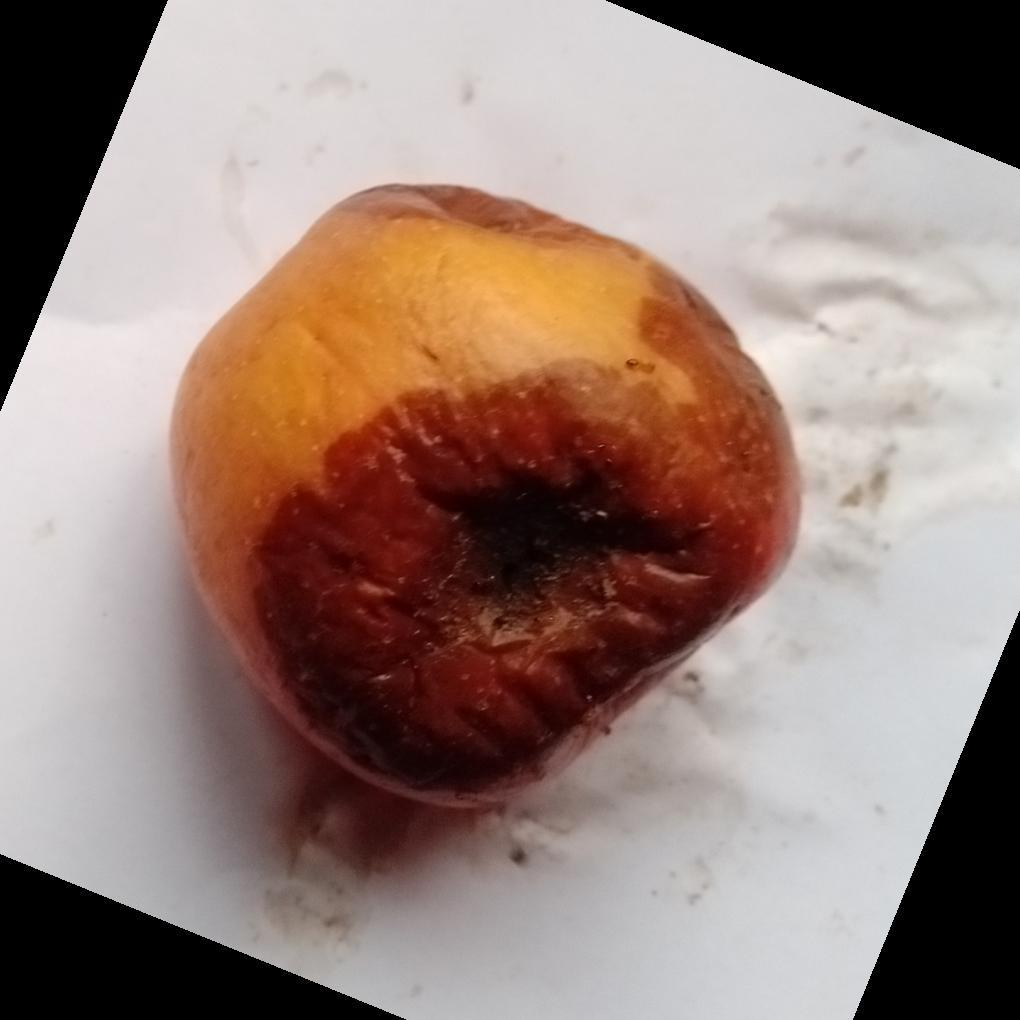FreshOrange: (166, 183, 803, 821)
